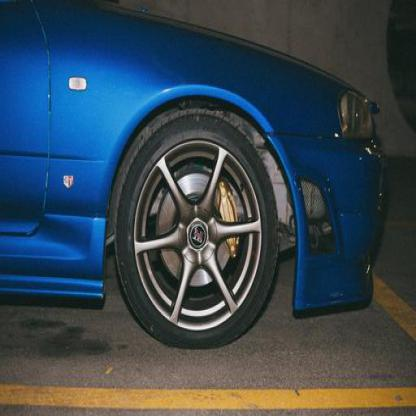Tire: (111, 107, 281, 349)
